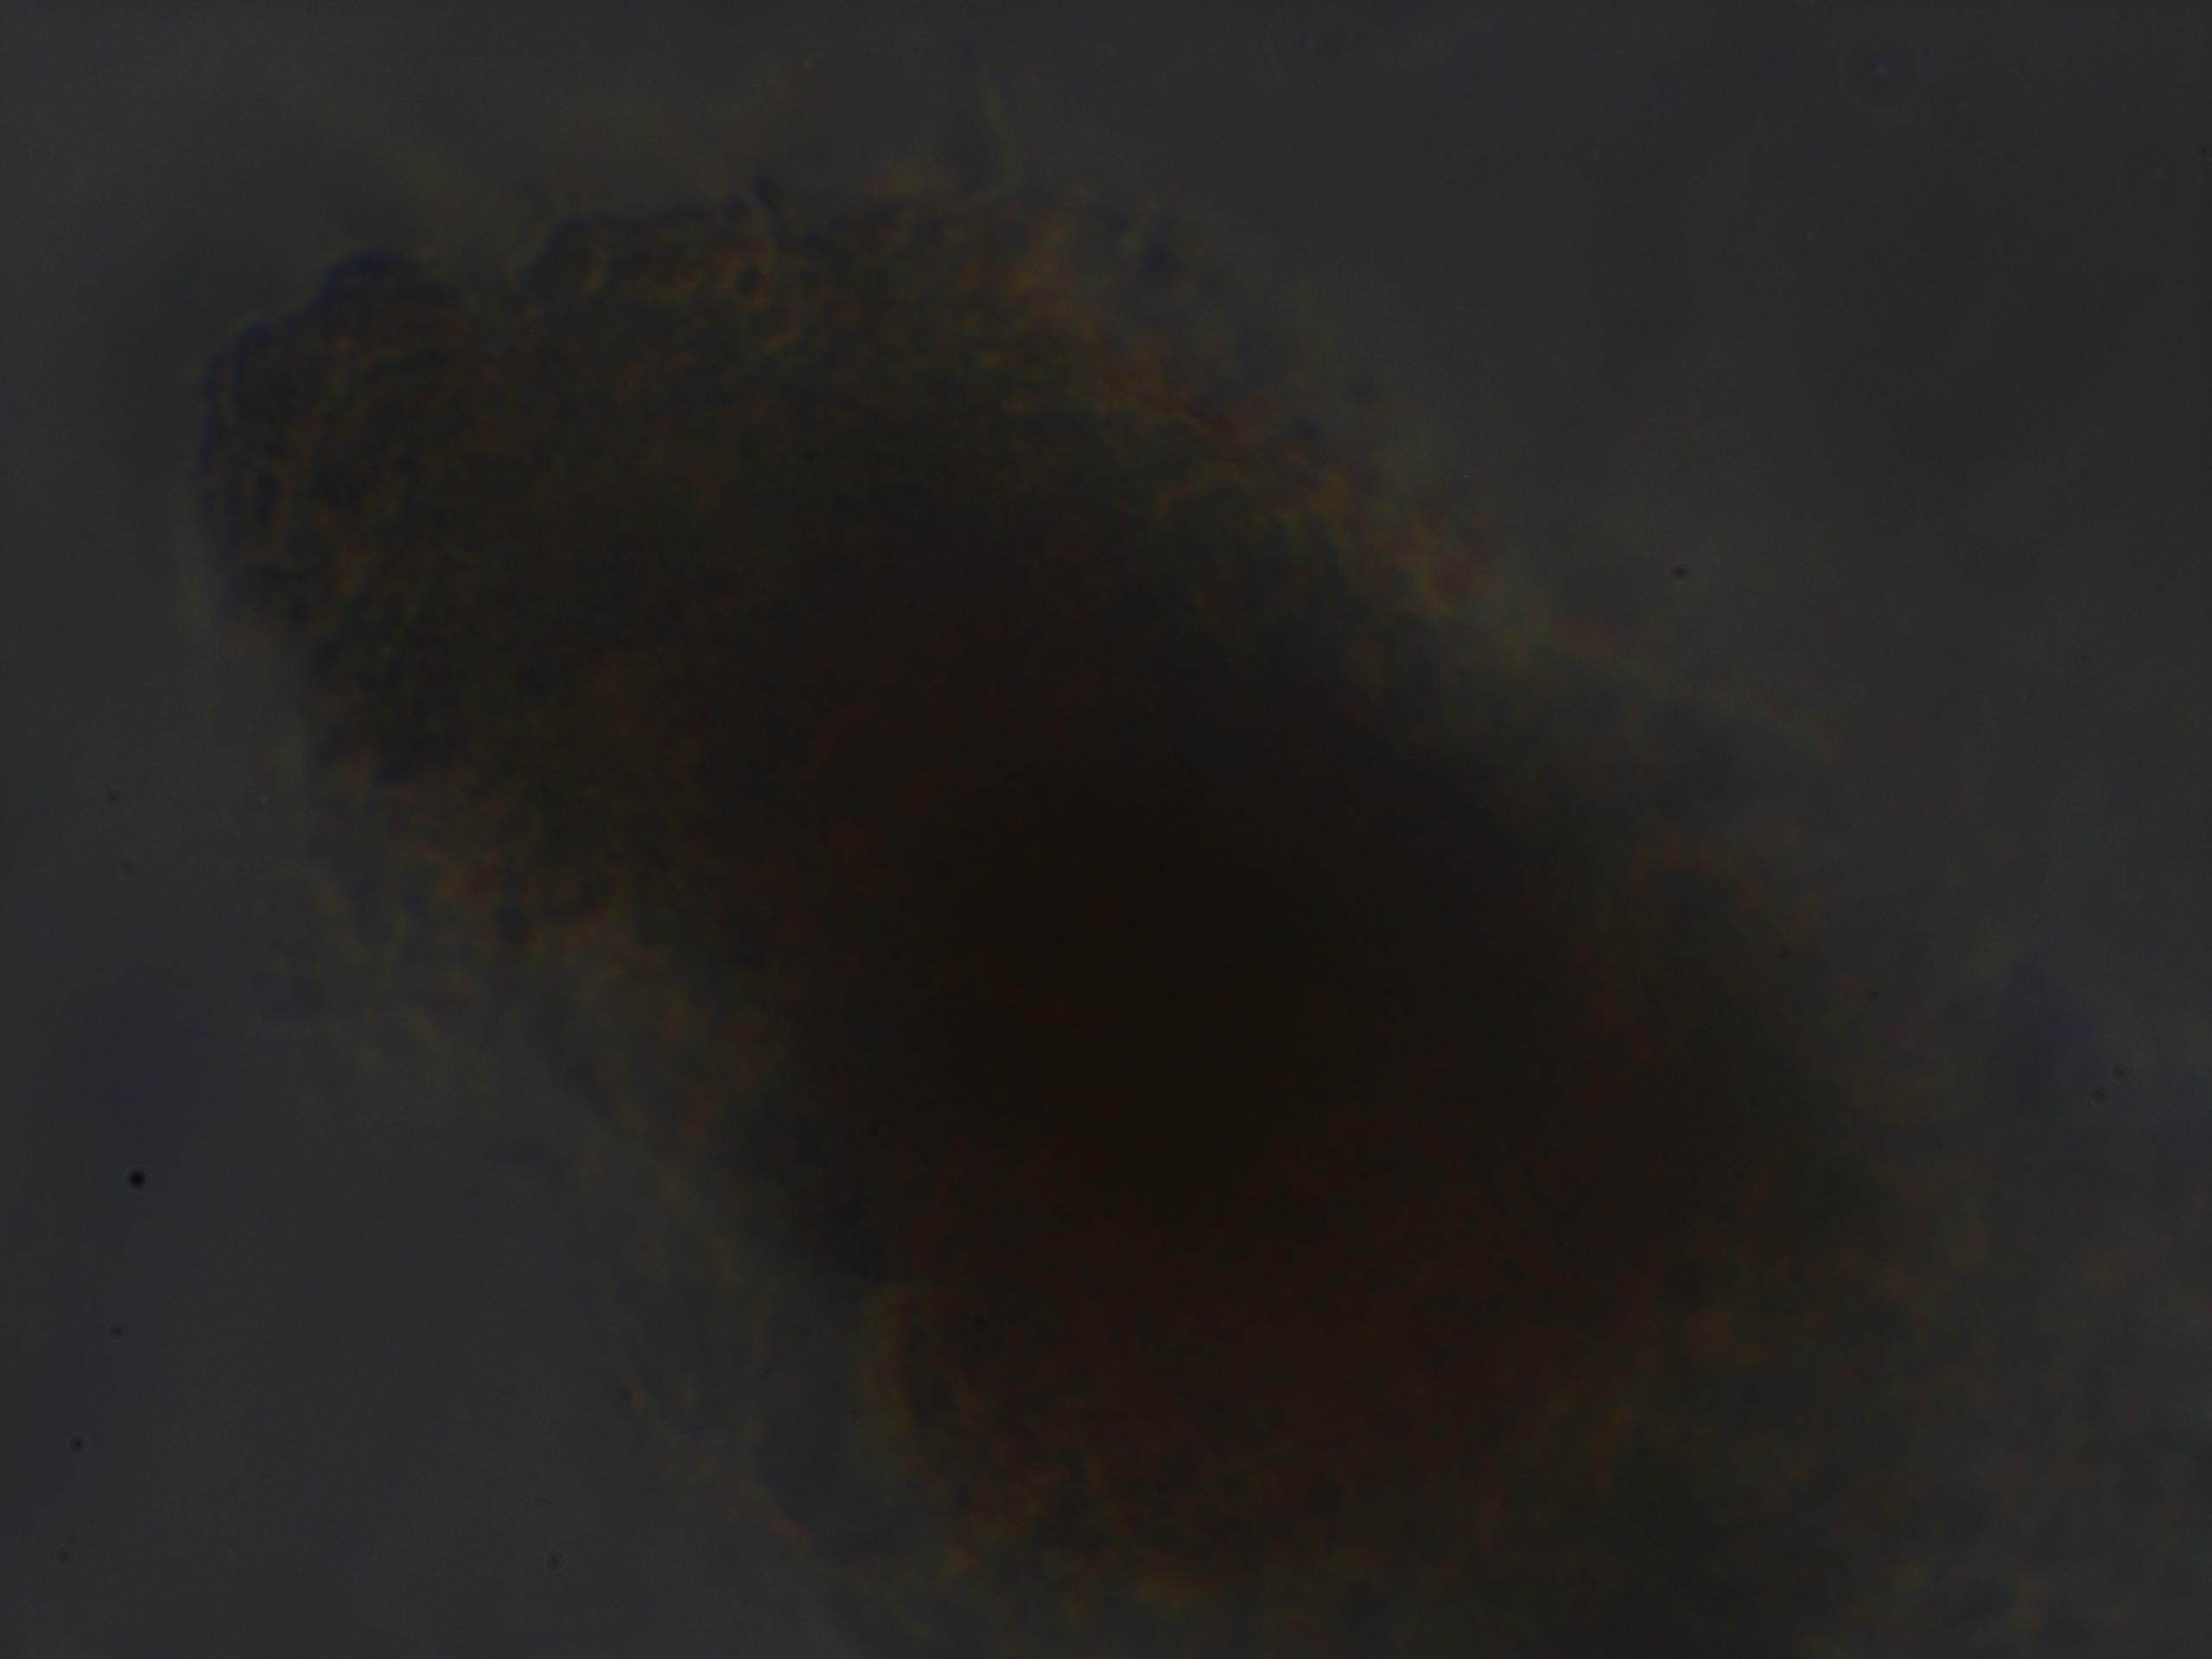spherical_floc: (185, 169, 1909, 1608)
